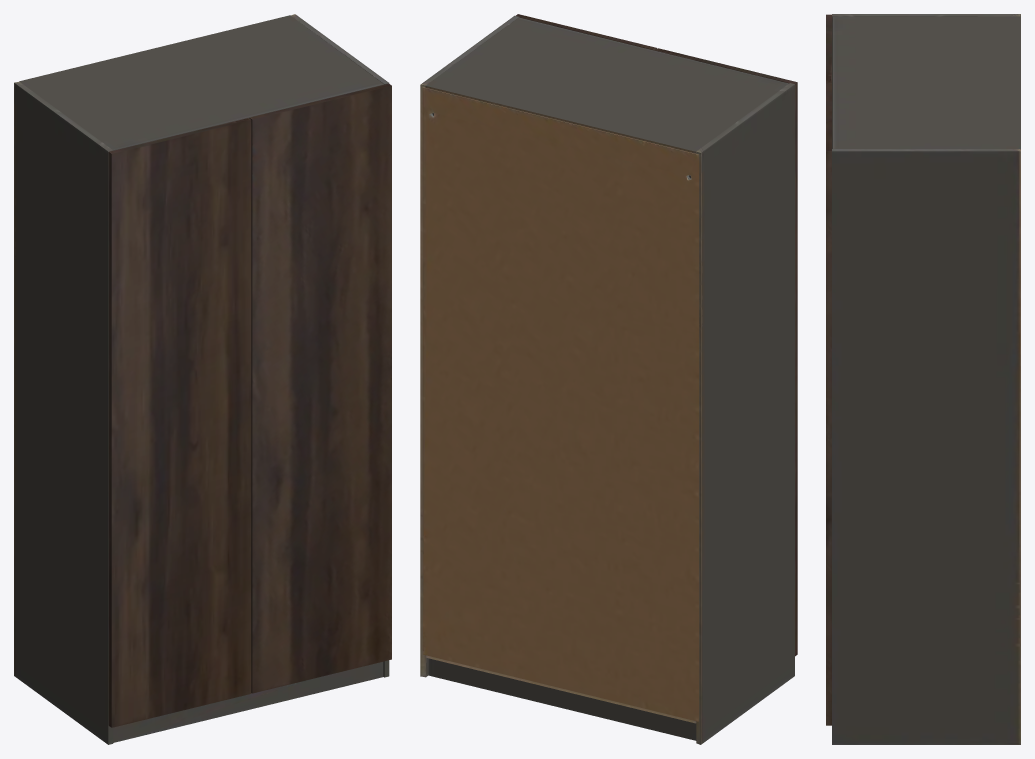
File: pax_storklinta_kombinacja_szafy_29562603.glb
The picture shows the model from 3 angles, left to right: view 1: azimuth 30°, elevation 25°; view 2: azimuth 150°, elevation 25°; view 3: azimuth 270°, elevation 25°; orthographic projection.
Visible parts, largest first — view 1: pax_storklinta_kombinacja_szafy_29562603; view 2: pax_storklinta_kombinacja_szafy_29562603; view 3: pax_storklinta_kombinacja_szafy_29562603.
Part boxes in pixels (x1=…): pax_storklinta_kombinacja_szafy_29562603: x1=14, y1=14, x2=391, y2=744; pax_storklinta_kombinacja_szafy_29562603: x1=420, y1=14, x2=797, y2=744; pax_storklinta_kombinacja_szafy_29562603: x1=826, y1=14, x2=1020, y2=744.
Bounding box in the file's own units: 0.9976 × 2.01 × 0.5981.
Materials: 1 (1 with a texture image).
